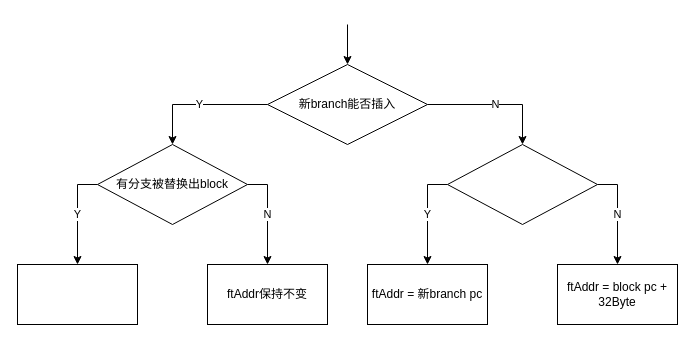
The diagram is 695 pixels wide and 342 high, and some of its shapes have lost their labels. Each missing label, with the centre of its shape:
ftAddr = 被替换分支的pc: (77,294)
新branch pc <= block pc + 32Byte: (522,184)
